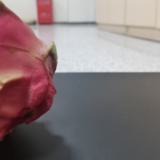pitaya: (1, 1, 58, 137)
